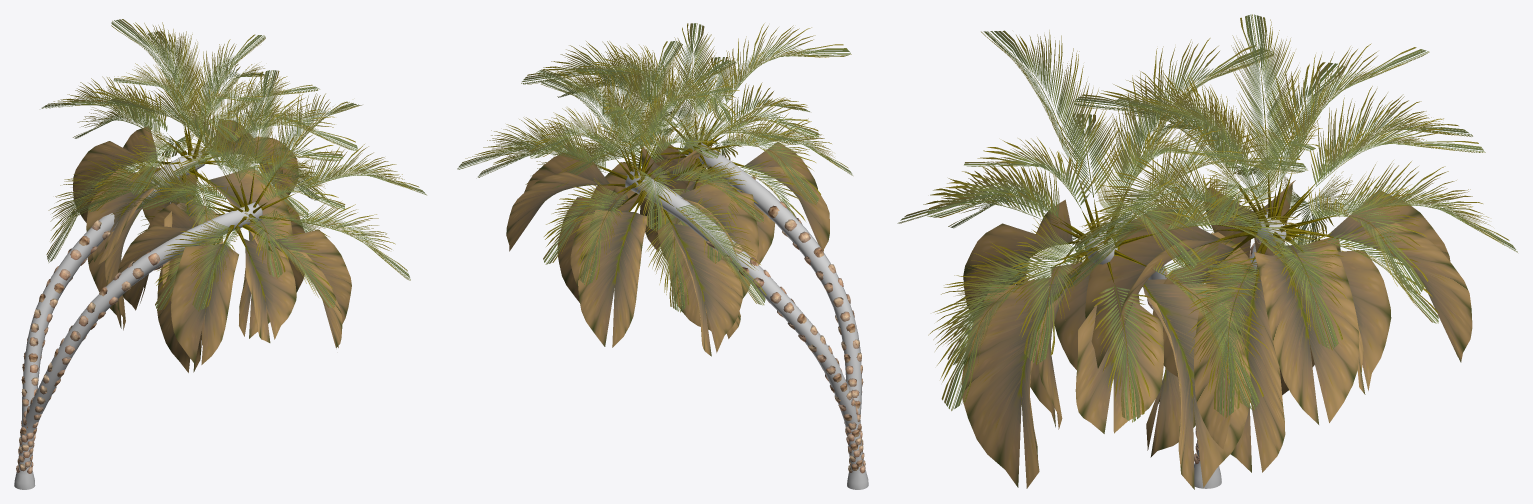
File: palme3.fbx
3 views of the same model, side by side, from view 1: azimuth 30°, elevation 25°; view 2: azimuth 150°, elevation 25°; view 3: azimuth 270°, elevation 25° (orthographic). The views are drawn at different scales.
Visible parts, largest first — view 1: date palm leaf1_3, date palm leaf2_4, palm03_0, palm bark_2, frond stem_1; view 2: date palm leaf1_3, date palm leaf2_4, palm03_0, palm bark_2, frond stem_1; view 3: date palm leaf1_3, date palm leaf2_4, frond stem_1, palm03_0.
Boxes of the visible parts, bbox=[...] form: date palm leaf1_3: bbox=[41, 19, 426, 311]; date palm leaf2_4: bbox=[73, 119, 351, 372]; palm03_0: bbox=[14, 149, 262, 489]; palm bark_2: bbox=[16, 220, 162, 473]; frond stem_1: bbox=[141, 122, 295, 256]; date palm leaf1_3: bbox=[457, 23, 852, 312]; date palm leaf2_4: bbox=[506, 140, 829, 356]; palm03_0: bbox=[625, 138, 868, 489]; palm bark_2: bbox=[706, 201, 865, 473]; frond stem_1: bbox=[593, 109, 757, 238]; date palm leaf1_3: bbox=[897, 14, 1517, 422]; date palm leaf2_4: bbox=[961, 180, 1472, 489]; frond stem_1: bbox=[1049, 170, 1350, 304]; palm03_0: bbox=[1086, 210, 1286, 488].
Bounding box in the file's own units: 560 × 573 × 573.
Materials: 4 (4 with a texture image).
